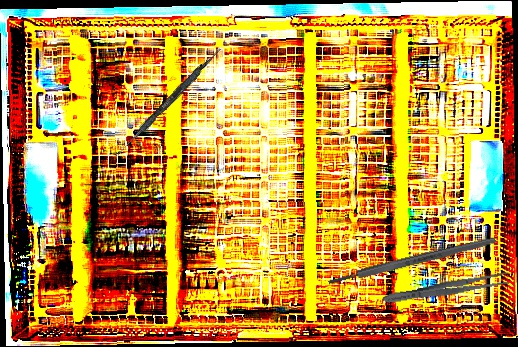Dressing Forceps: (381, 269, 511, 308)
Scalpel Handle: (327, 235, 497, 287)
Spatula Surgical: (113, 44, 223, 161)
